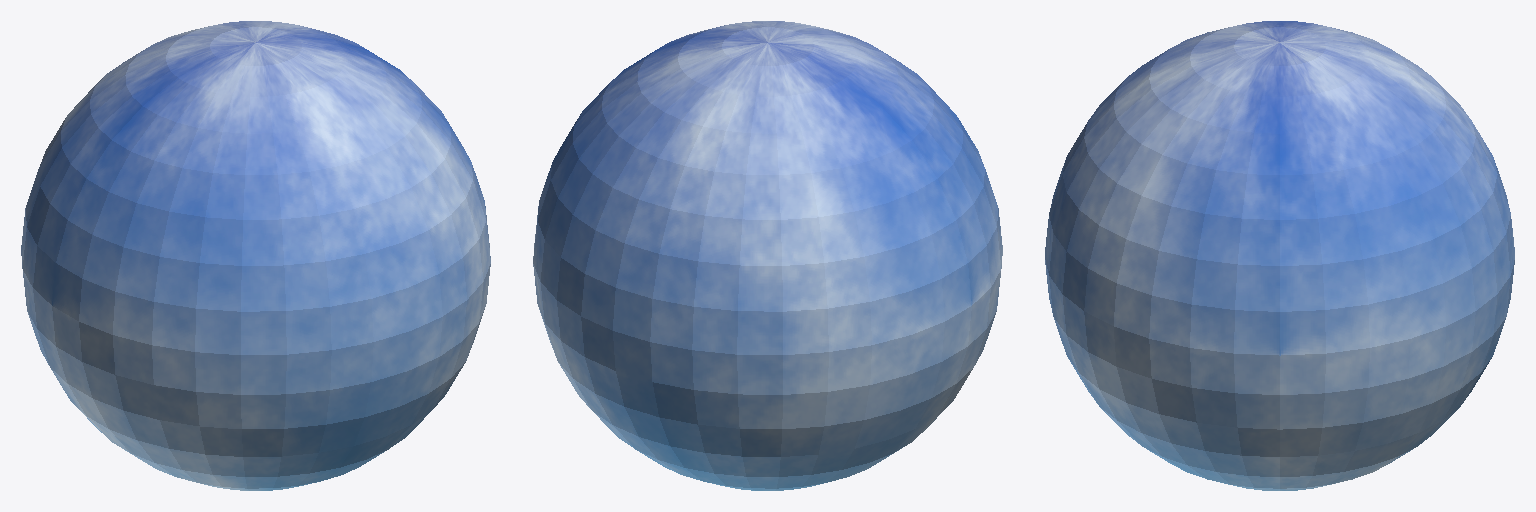
3 renders of one model, left to right at view 1: azimuth 30°, elevation 25°; view 2: azimuth 150°, elevation 25°; view 3: azimuth 270°, elevation 25°, orthographic.
Visible parts, largest first — view 1: 球; view 2: 球; view 3: 球.
Boxes of the visible parts, x1,y1,x2,y2 form: 球: [21, 21, 490, 490]; 球: [533, 21, 1002, 490]; 球: [1045, 21, 1514, 490].
Bounding box in the file's own units: 1000 × 1000 × 1000.
Materials: 1 (1 with a texture image).